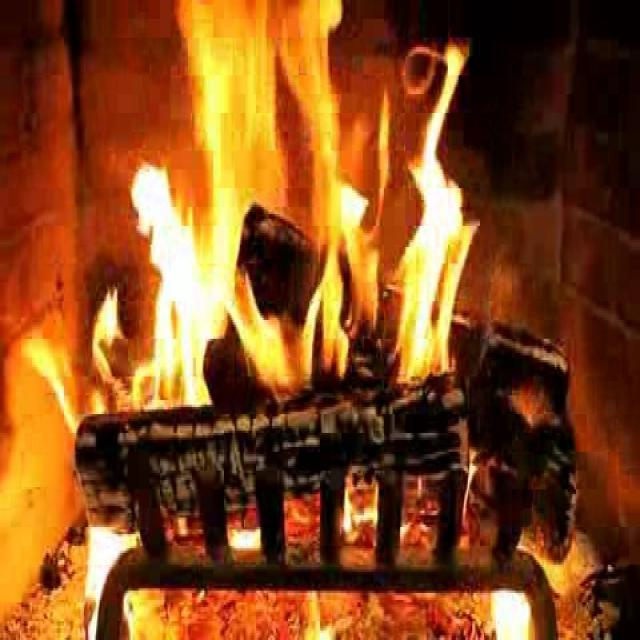Fire: (126, 8, 462, 403)
